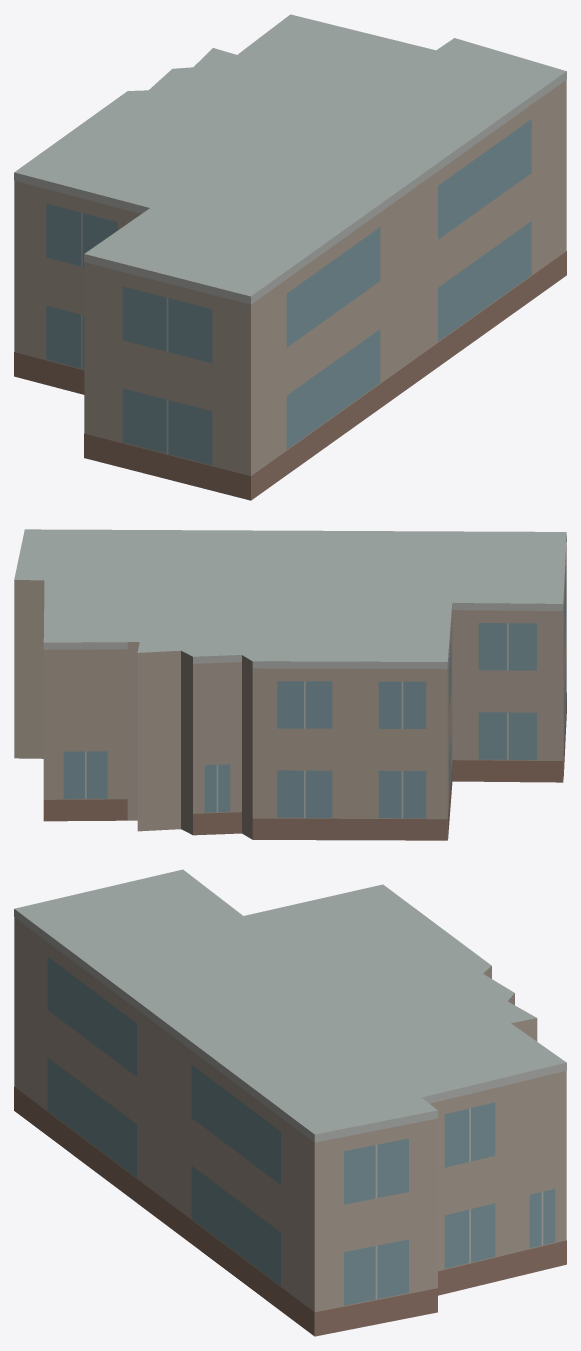
The model's file is survey-upis-32898671.glb.
3 views of the same model, one above another, from view 1: azimuth 30°, elevation 25°; view 2: azimuth 150°, elevation 25°; view 3: azimuth 270°, elevation 25° (orthographic). The views are drawn at different scales.
Visible parts, largest first — view 1: survey-upis-32898671.tmp; view 2: survey-upis-32898671.tmp; view 3: survey-upis-32898671.tmp.
Part boxes in pixels (x1,y1,x2,y2): survey-upis-32898671.tmp: (14, 14, 566, 500); survey-upis-32898671.tmp: (14, 529, 566, 840); survey-upis-32898671.tmp: (14, 869, 566, 1336).
Bounding box in the file's own units: 17.19 × 6.1 × 15.14.
